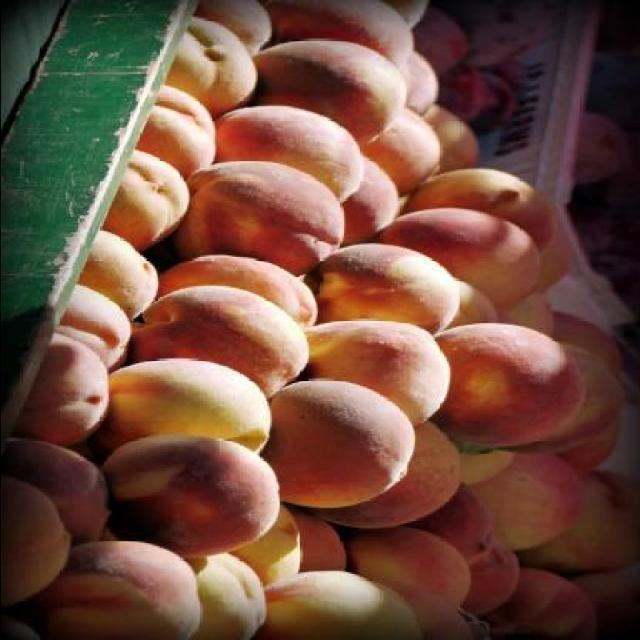Peach: (2, 0, 640, 638), (92, 432, 286, 554)
